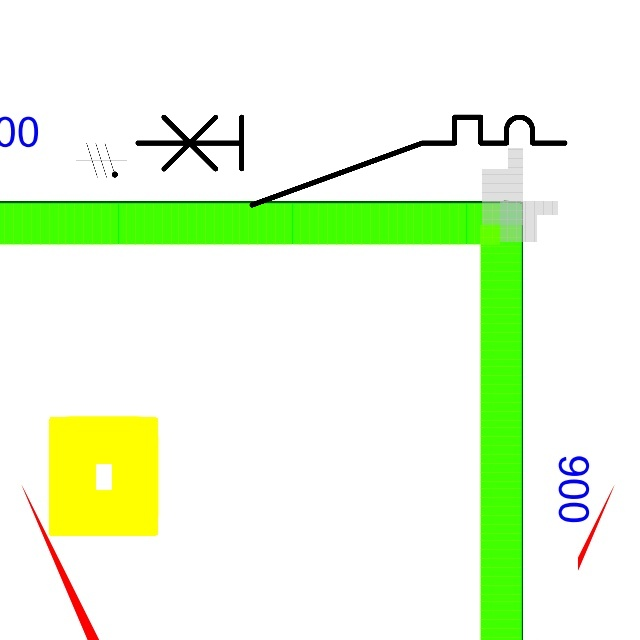interruptor_termomagnetico: (126, 106, 575, 216)
